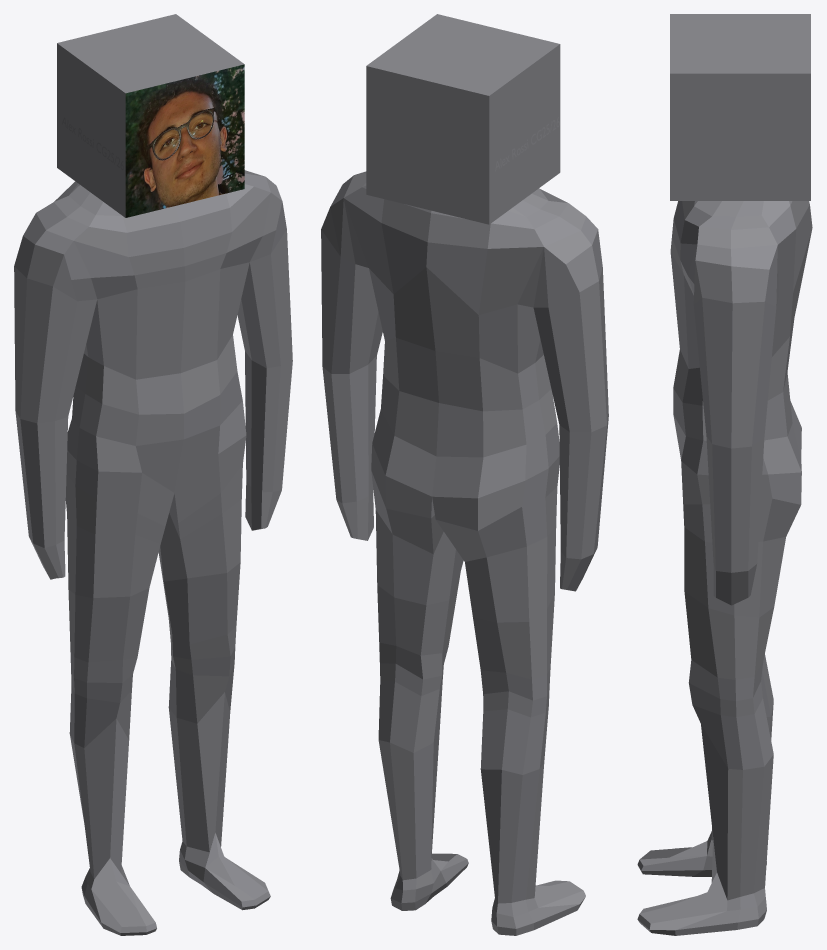
File: full-dummy.obj
3 views of the same model, side by side, from view 1: azimuth 30°, elevation 25°; view 2: azimuth 150°, elevation 25°; view 3: azimuth 270°, elevation 25° (orthographic). The views are drawn at different scales.
Parts seen in each view (by area): view 1: Testo; view 2: Testo; view 3: Testo.
Boxes of the visible parts, x1,y1,x2,y2 form: Testo: [14, 14, 292, 935]; Testo: [321, 14, 608, 935]; Testo: [637, 14, 812, 935].
Bounding box in the file's own units: 2.85 × 8.37 × 1.56.
4 materials, 1 textured.
